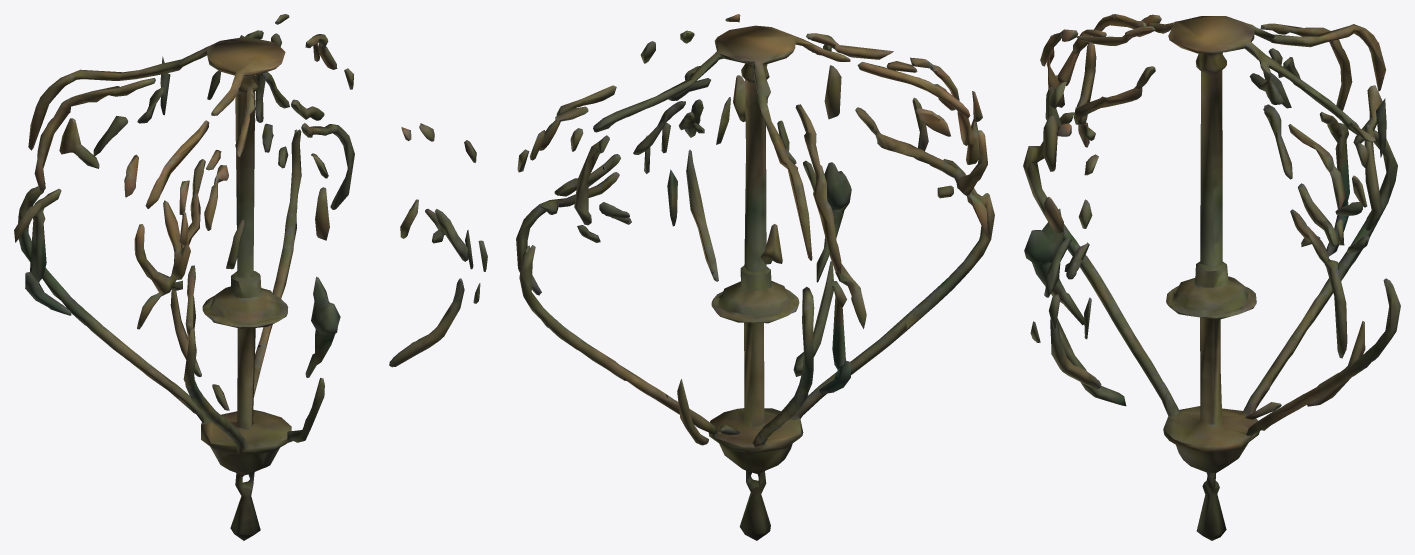
File: plain-bronze-chandelier-v001.glb
3 views of the same model, side by side, from view 1: azimuth 30°, elevation 25°; view 2: azimuth 150°, elevation 25°; view 3: azimuth 270°, elevation 25° (orthographic). The views are drawn at different scales.
Visible parts, largest first — view 1: plain-bronze-chandelier; view 2: plain-bronze-chandelier; view 3: plain-bronze-chandelier.
Part boxes in pixels (x1=…): plain-bronze-chandelier: x1=14, y1=14, x2=487, y2=540; plain-bronze-chandelier: x1=516, y1=14, x2=994, y2=540; plain-bronze-chandelier: x1=1023, y1=14, x2=1400, y2=540.
Size of the model in its own units: 0.6671 by 0.9081 by 0.6102.
Materials: 1 (1 with a texture image).
